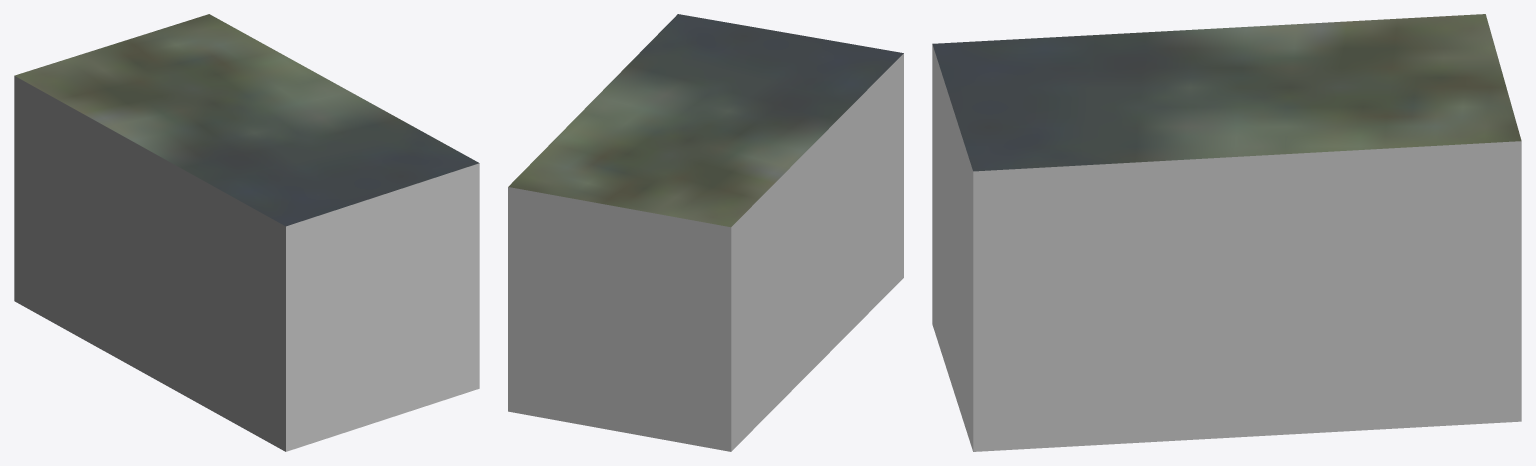
The model's file is DEBW_0010007Tvjf.gltf.
3 views of the same model, side by side, from view 1: azimuth 30°, elevation 25°; view 2: azimuth 150°, elevation 25°; view 3: azimuth 270°, elevation 25° (orthographic). The views are drawn at different scales.
Visible parts, largest first — view 1: Z_UP; view 2: Z_UP; view 3: Z_UP.
Part boxes in pixels (x1,y1,x2,y2): Z_UP: [14, 14, 479, 451]; Z_UP: [508, 14, 903, 451]; Z_UP: [932, 14, 1521, 451].
Bounding box in the file's own units: 3.01 × 2.5 × 4.76.
Materials: 2 (1 with a texture image).
